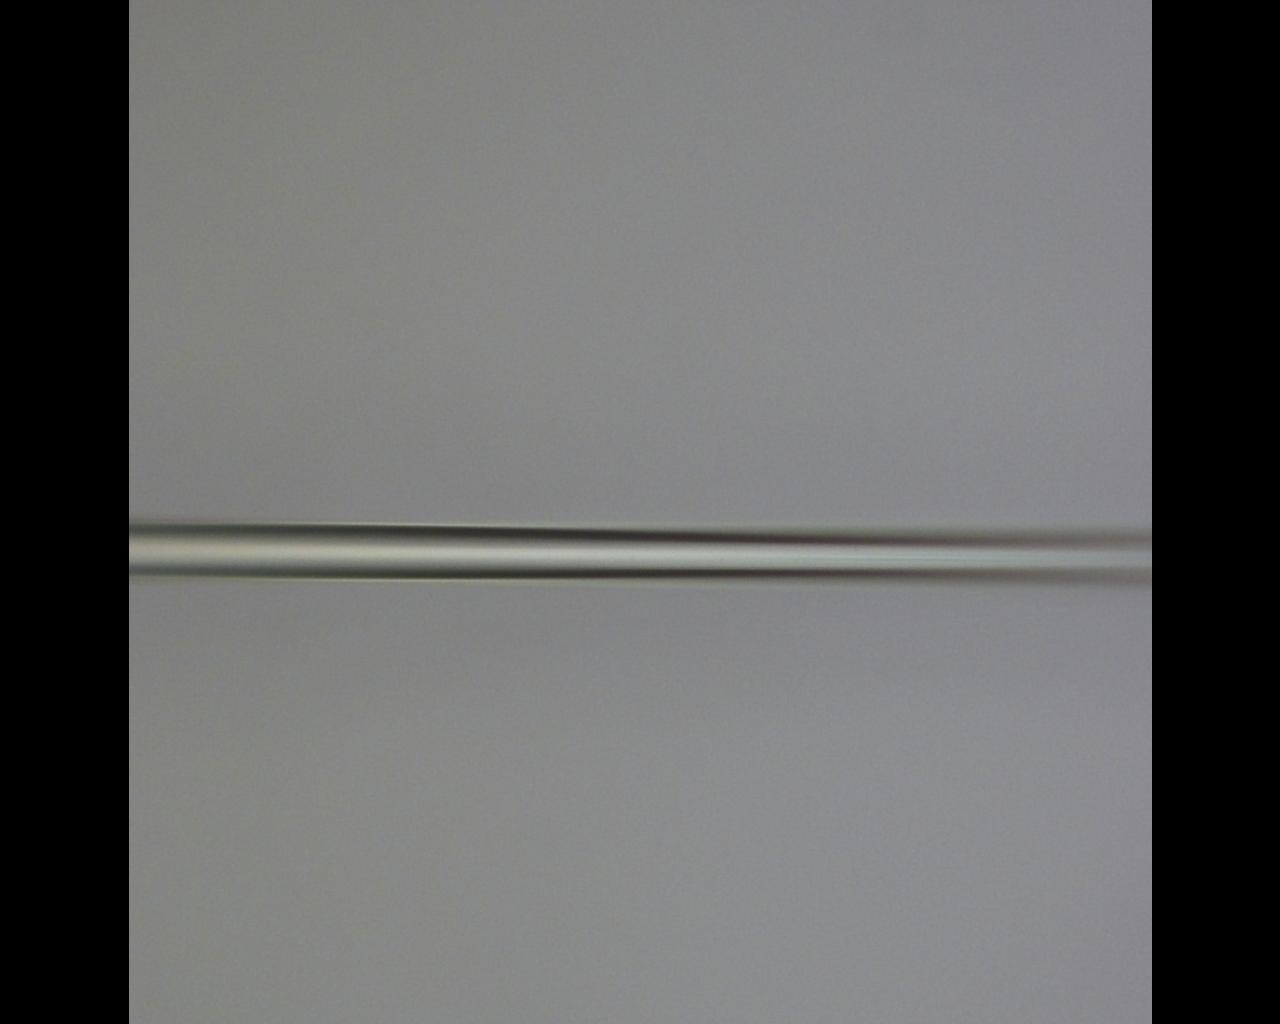fiber: (857, 282, 1280, 423), (0, 446, 801, 486), (0, 791, 787, 810), (857, 707, 1280, 724)
